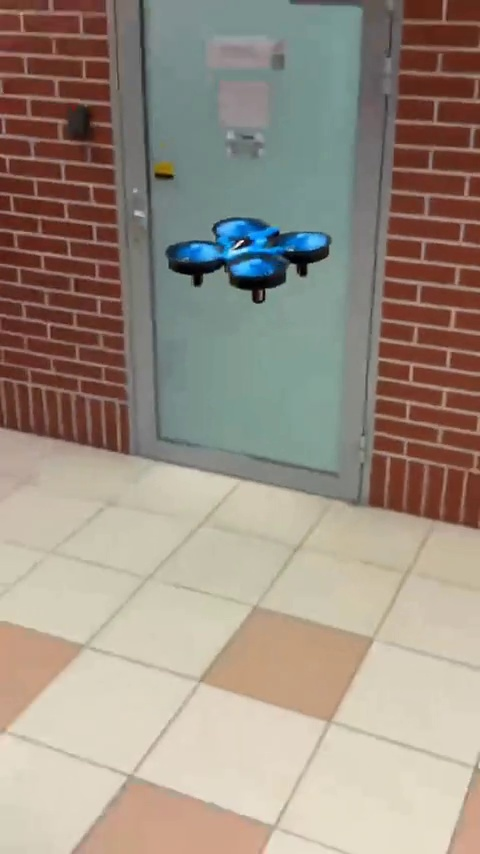drone: (161, 214, 333, 300)
